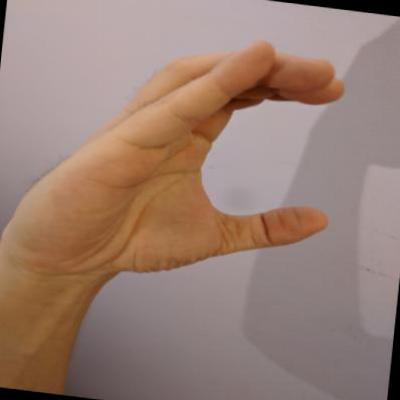hand: (0, 6, 354, 311)
